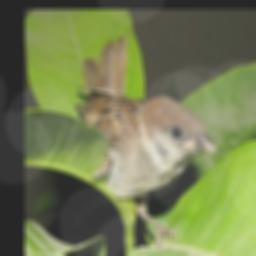Sparrow: (72, 34, 220, 249)
